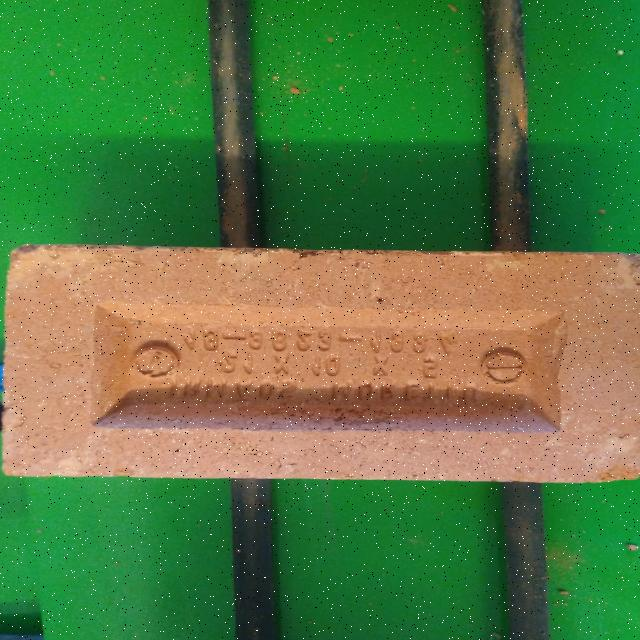bricks: (1, 243, 640, 483)
